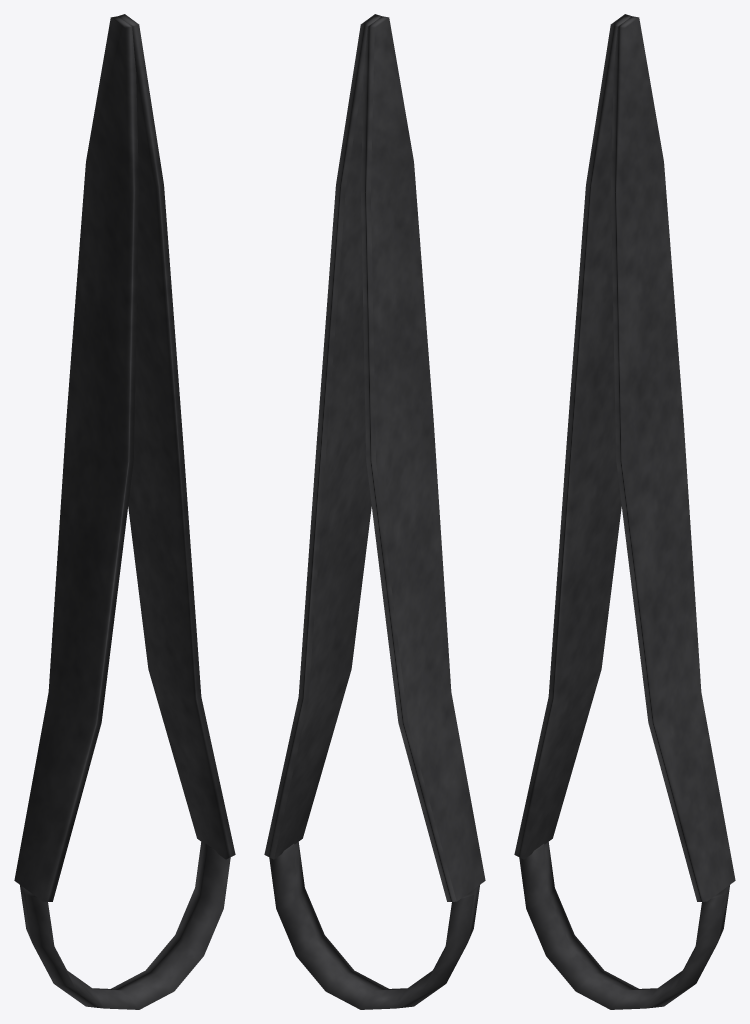
File: it_shears.glb
3 views of the same model, side by side, from view 1: azimuth 30°, elevation 25°; view 2: azimuth 150°, elevation 25°; view 3: azimuth 330°, elevation 25° (orthographic).
Parts seen in each view (by area): view 1: it_shears_lod0; view 2: it_shears_lod0; view 3: it_shears_lod0.
Part boxes in pixels (bbox=[...]): it_shears_lod0: bbox=[14, 14, 235, 1009]; it_shears_lod0: bbox=[264, 14, 485, 1009]; it_shears_lod0: bbox=[514, 14, 735, 1009].
Size of what is drawn, in the model's own units: 0.048 by 0.2271 by 0.024.
Materials: 1 (1 with a texture image).
